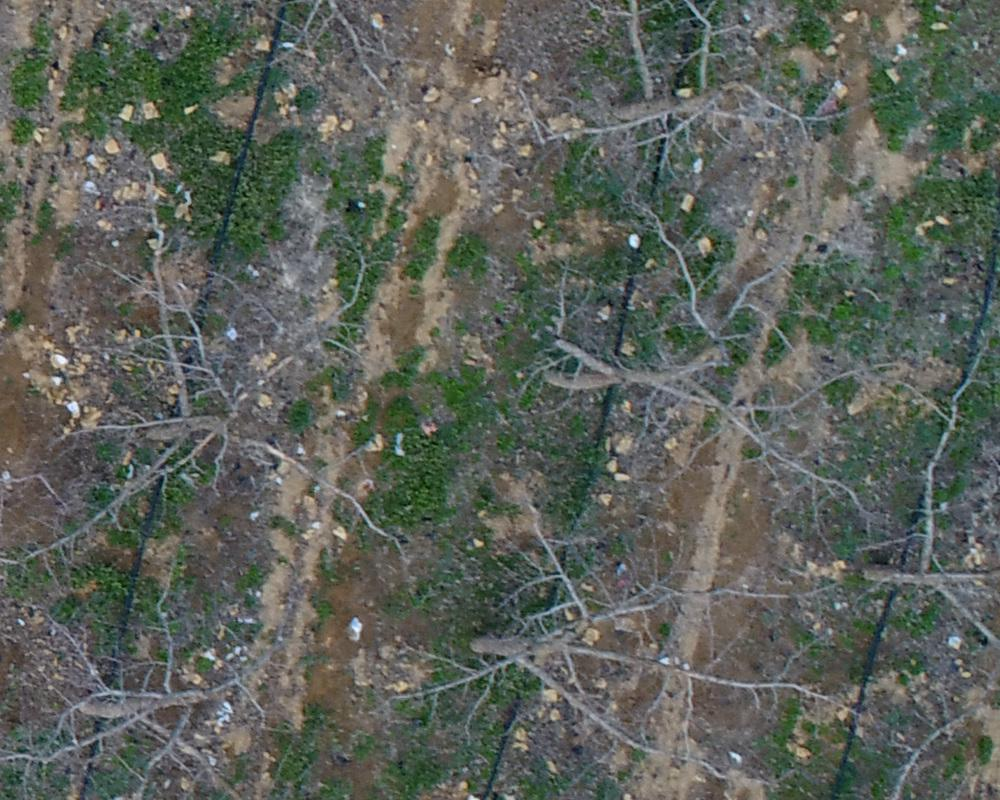apple: (399, 520, 849, 784), (529, 203, 884, 523), (561, 10, 869, 309), (838, 334, 990, 709), (10, 614, 311, 790)
